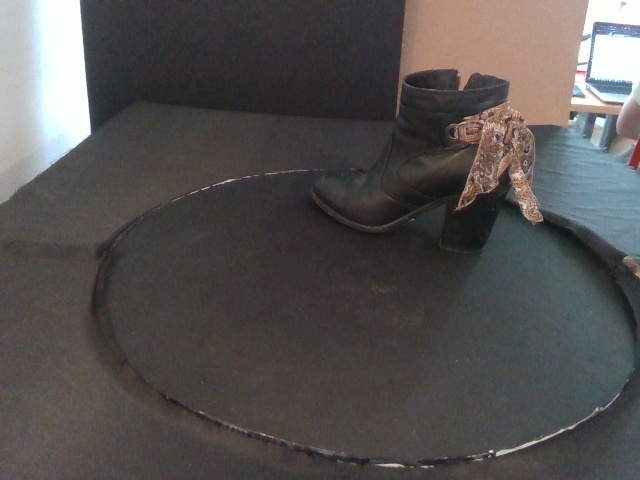shoe: (309, 68, 514, 255)
